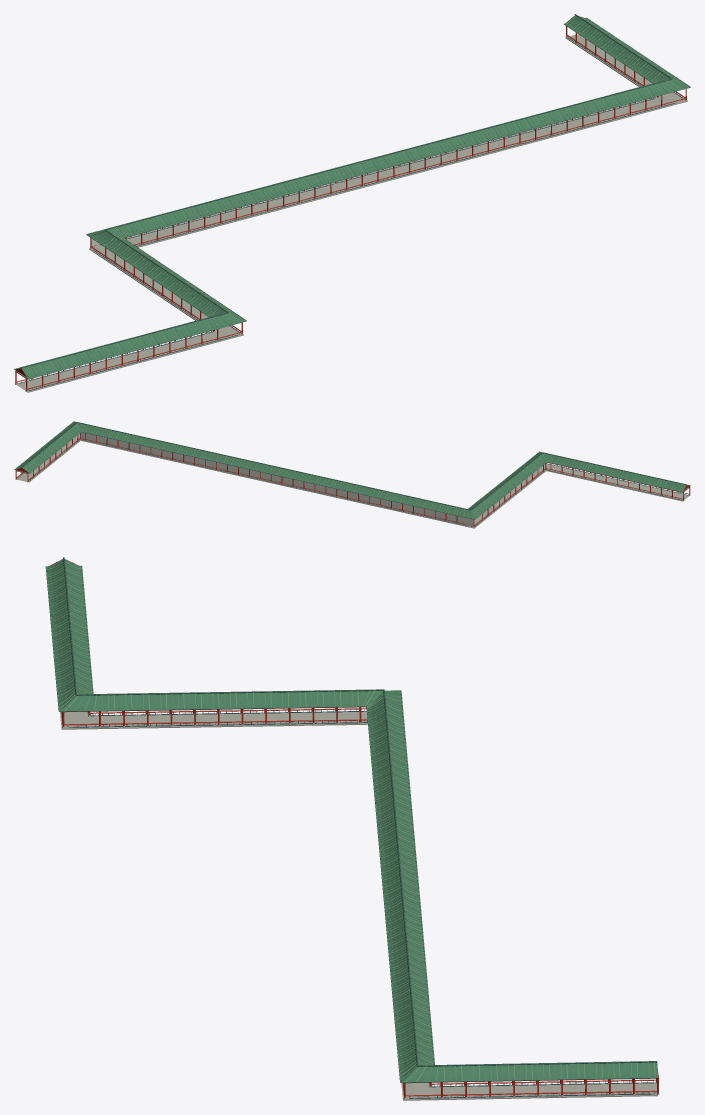
The model's file is preview.glb.
3 views of the same model, one above another, from view 1: azimuth 30°, elevation 25°; view 2: azimuth 150°, elevation 25°; view 3: azimuth 270°, elevation 25° (orthographic). The views are drawn at different scales.
Visible parts, largest first — view 1: Corridor roof, Corridor stone, Corridor red, Corridor blue, Corridor ridge, Corridor edge, Corridor tile0, Corridor tile2, Corridor tile1, Corridor plaster; view 2: Corridor roof, Corridor plaster, Corridor stone, Corridor red, Corridor ridge, Corridor edge, Corridor tile1, Corridor tile0, Corridor tile2, Corridor blue; view 3: Corridor roof, Corridor stone, Corridor tile0, Corridor tile1, Corridor tile2, Corridor red, Corridor edge, Corridor ridge, Corridor blue.
Boxes of the visible parts, x1=… form: Corridor roof: x1=15, y1=15, x2=689, y2=378; Corridor stone: x1=15, y1=34, x2=687, y2=392; Corridor red: x1=15, y1=16, x2=686, y2=390; Corridor blue: x1=17, y1=36, x2=683, y2=390; Corridor ridge: x1=21, y1=14, x2=672, y2=367; Corridor edge: x1=14, y1=17, x2=690, y2=379; Corridor tile0: x1=16, y1=17, x2=688, y2=377; Corridor tile2: x1=31, y1=19, x2=686, y2=375; Corridor tile1: x1=20, y1=16, x2=683, y2=376; Corridor plaster: x1=91, y1=96, x2=657, y2=248; Corridor roof: x1=15, y1=422, x2=687, y2=519; Corridor plaster: x1=80, y1=432, x2=473, y2=526; Corridor stone: x1=15, y1=433, x2=690, y2=528; Corridor red: x1=15, y1=433, x2=690, y2=526; Corridor ridge: x1=21, y1=422, x2=686, y2=510; Corridor edge: x1=14, y1=421, x2=690, y2=519; Corridor tile1: x1=15, y1=424, x2=682, y2=516; Corridor tile0: x1=16, y1=422, x2=689, y2=517; Corridor tile2: x1=18, y1=422, x2=679, y2=518; Corridor blue: x1=16, y1=439, x2=688, y2=526; Corridor roof: x1=47, y1=559, x2=657, y2=1081; Corridor stone: x1=60, y1=710, x2=659, y2=1100; Corridor tile0: x1=46, y1=559, x2=655, y2=1081; Corridor tile1: x1=47, y1=562, x2=655, y2=1081; Corridor tile2: x1=47, y1=564, x2=643, y2=1081; Corridor red: x1=50, y1=560, x2=658, y2=1097; Corridor edge: x1=45, y1=565, x2=658, y2=1082; Corridor ridge: x1=63, y1=557, x2=657, y2=1066; Corridor blue: x1=67, y1=709, x2=655, y2=1098.
Bounding box in the file's own units: 2.01 × 0.0519 × 1.01.
12 materials, 1 textured.
